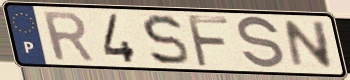4: (102, 13, 138, 64)
F: (184, 13, 232, 69)
N: (281, 20, 336, 71)
R: (39, 10, 97, 63)
S: (235, 14, 287, 72), (140, 12, 192, 67)
